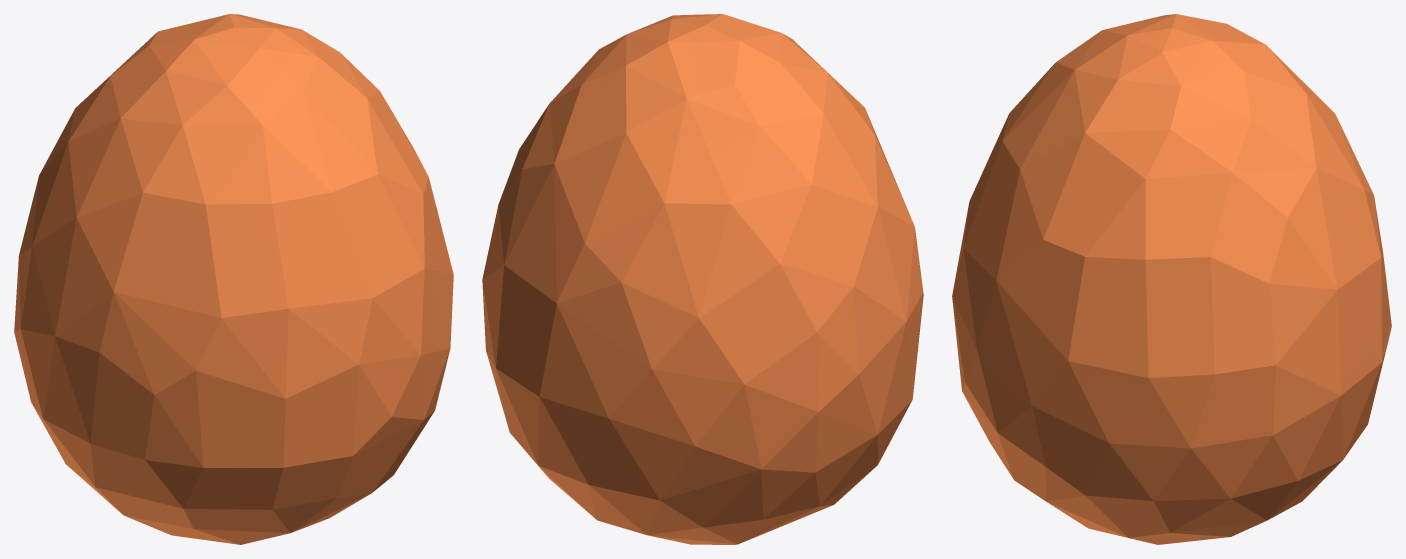
Rendered from egg.fbx.
3 views of the same model, side by side, from view 1: azimuth 30°, elevation 25°; view 2: azimuth 150°, elevation 25°; view 3: azimuth 270°, elevation 25° (orthographic).
Visible parts, largest first — view 1: Sphere; view 2: Sphere; view 3: Sphere.
Part boxes in pixels (<box>): Sphere: <box>14,14,453,544</box>; Sphere: <box>482,14,923,544</box>; Sphere: <box>952,14,1391,544</box>.
Size of the model in its own units: 200 by 249 by 200.
